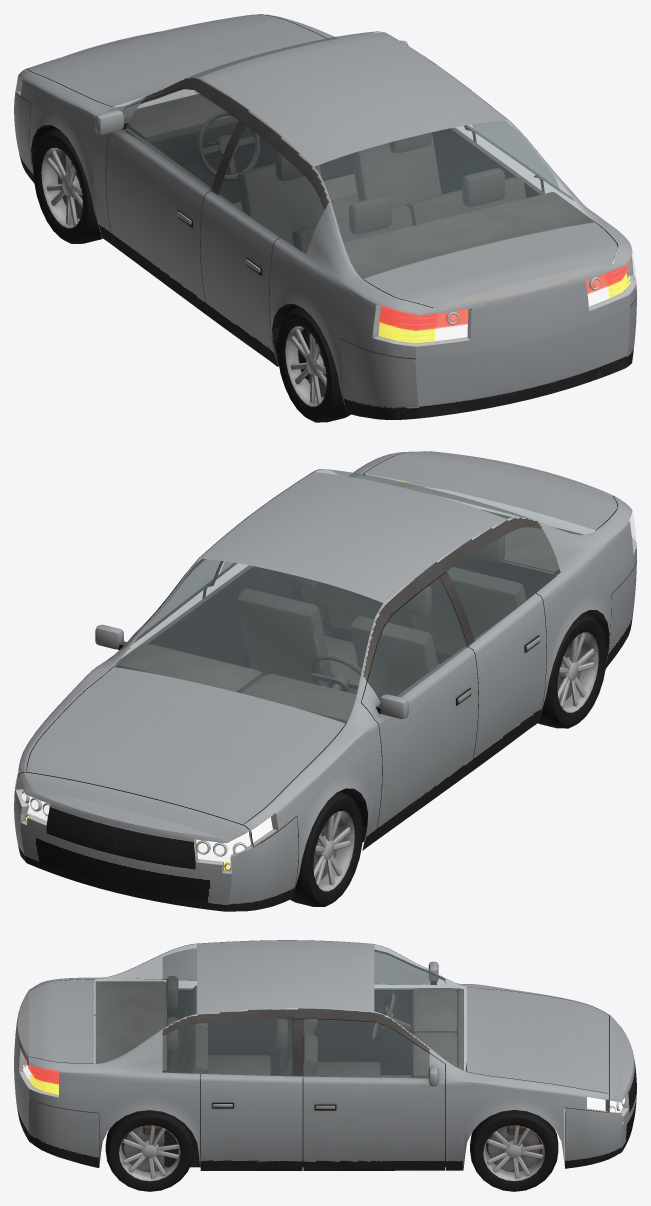
Rendered from family_sedan.glb.
The picture shows the model from 3 angles, top to bottom: view 1: azimuth 30°, elevation 25°; view 2: azimuth 150°, elevation 25°; view 3: azimuth 270°, elevation 25°; orthographic projection. The views are drawn at different scales.
Visible parts, largest first — view 1: lod0, window_rear, door_fl, bumper_r, hood, trunk, window_l, wheel_rl_mesh, wheel_fl_mesh, window_r, steering_wheel_mesh, bumper_f (+1 smaller); view 2: lod0, hood, window_front, bumper_f, door_fl, trunk, window_l, wheel_fl_mesh, wheel_rl_mesh, window_rear, door_fr, bumper_r (+1 smaller); view 3: lod0, door_fr, hood, window_rear, window_front, window_r, trunk, wheel_fr, bumper_f, wheel_rr, bumper_r, door_fl (+2 smaller).
Part boxes in pixels (x1,y1,x2,y2): lod0: (15,14,636,411); window_rear: (315,120,594,278); door_fl: (95,89,240,316); bumper_r: (340,297,636,419); hood: (27,14,327,106); trunk: (363,222,617,308); window_l: (218,126,324,253); wheel_rl_mesh: (277,307,350,422); wheel_fl_mesh: (33,128,102,243); window_r: (472,120,559,191); steering_wheel_mesh: (197,110,260,180); bumper_f: (14,31,160,182); lod0: (15,451,636,897); hood: (26,667,345,825); window_front: (113,558,382,723); bumper_f: (14,772,298,911); door_fl: (361,577,478,841); trunk: (363,451,617,530); window_l: (447,527,560,640); wheel_fl_mesh: (290,791,362,906); wheel_rl_mesh: (538,613,606,728); window_rear: (315,469,594,534); door_fr: (95,558,219,657); bumper_r: (605,557,636,668); lod0: (14,940,608,1170); door_fr: (303,1019,445,1170); hood: (467,987,608,1093); window_rear: (94,944,196,1063); window_front: (374,944,466,1071); window_r: (162,1019,292,1076); trunk: (17,979,94,1063); wheel_fr: (470,1110,558,1191); bumper_f: (564,1015,636,1168); wheel_rr: (105,1110,193,1191); bumper_r: (14,1015,99,1167); door_fl: (374,949,445,984).
Size of what is drawn, in the model's own units: 2.03 by 1.46 by 4.72.
Materials: 10 (8 with a texture image).
